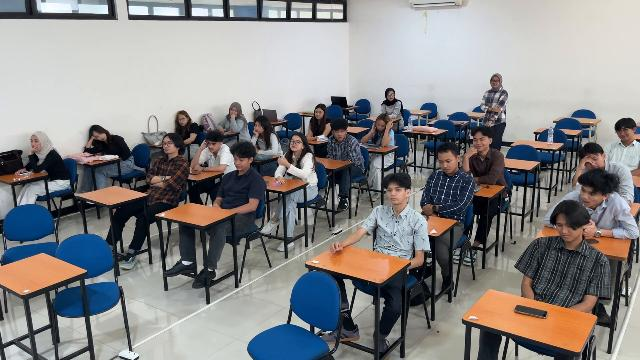bosan: (556, 220, 574, 241), (580, 185, 597, 206), (387, 187, 403, 204), (438, 156, 452, 173), (584, 156, 602, 168), (233, 155, 245, 170), (163, 138, 174, 153), (91, 131, 106, 140), (291, 137, 301, 150), (207, 141, 217, 152), (334, 130, 345, 140), (31, 137, 40, 149), (254, 122, 263, 133), (376, 120, 385, 131), (179, 114, 187, 125), (315, 109, 323, 119), (231, 108, 238, 116)
